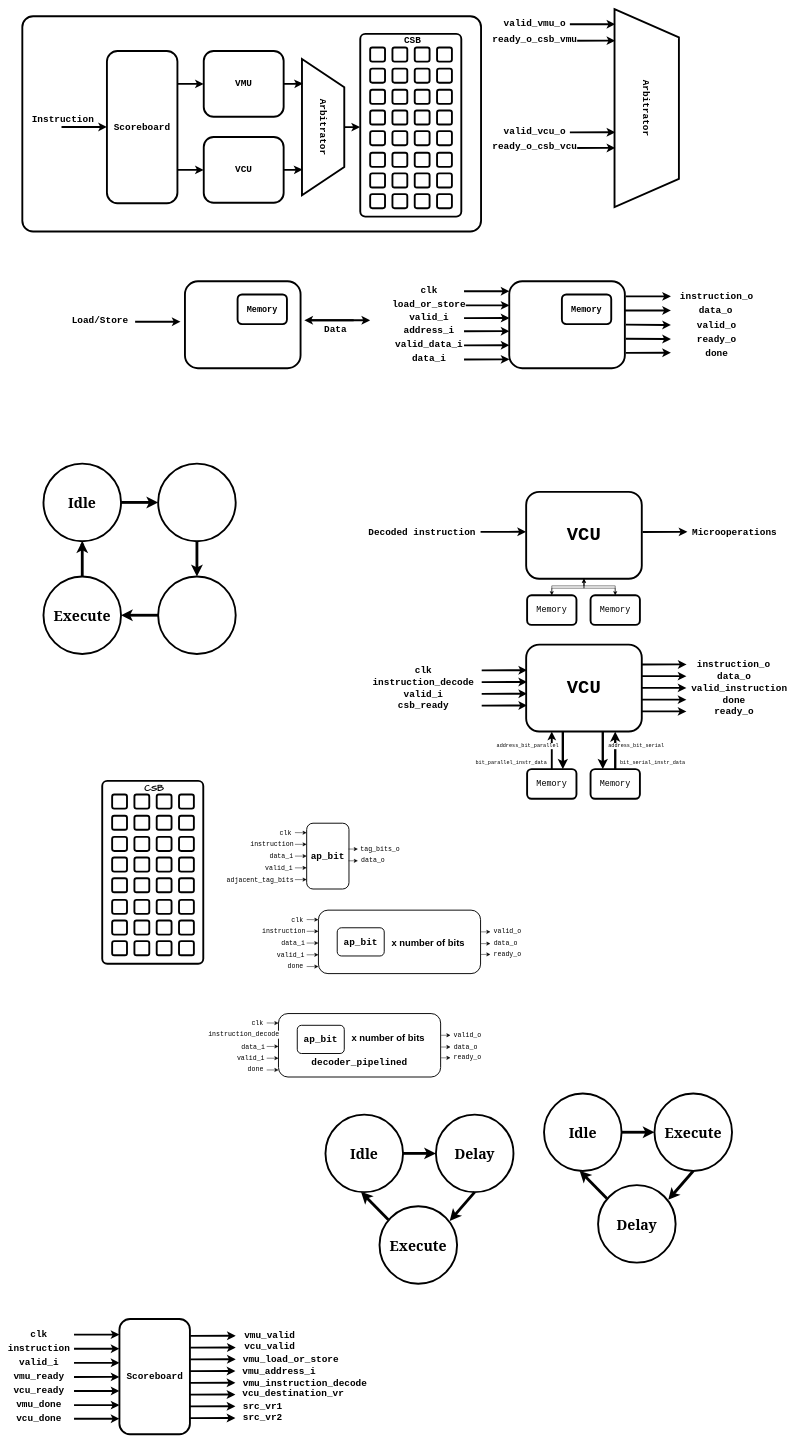
The diagram is 795 pixels wide and 1443 high, and some of its shapes have lost their labels. Here are the shapes that lost their labels. From the top down, the box of each, then its label:
(157, 462, 236, 542): Decode
(157, 575, 236, 655): Fetch
